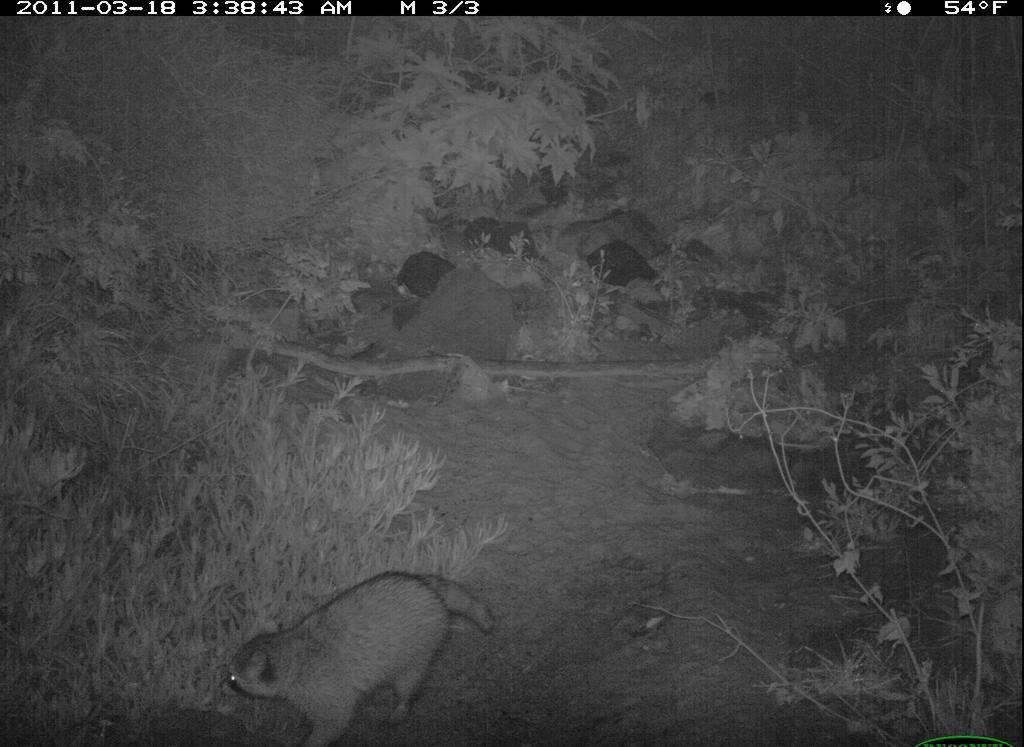raccoon: (220, 567, 504, 747)
